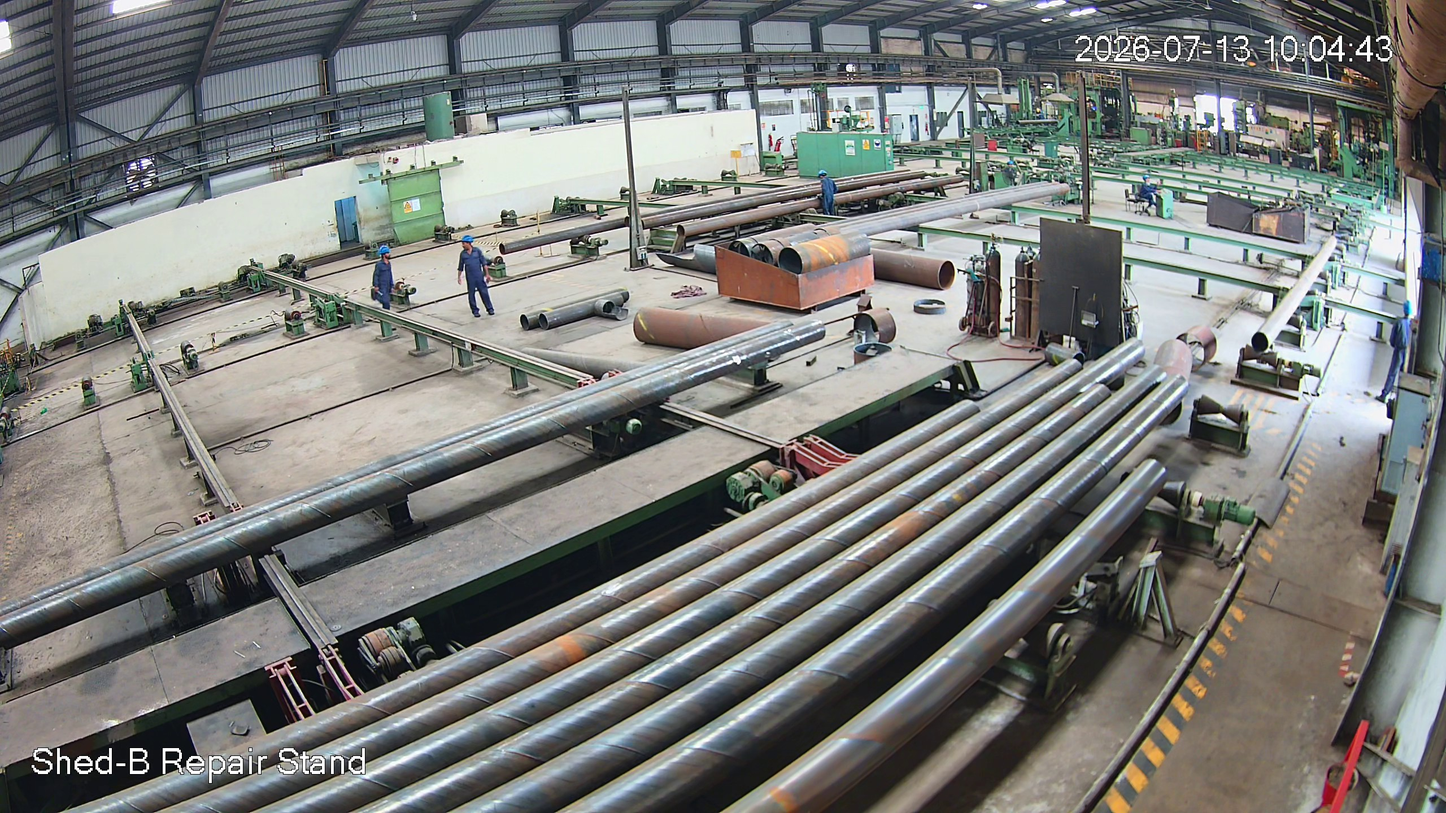Helmet: (459, 233, 474, 254), (378, 245, 394, 264)
Person: (456, 236, 495, 317), (371, 247, 398, 311)
